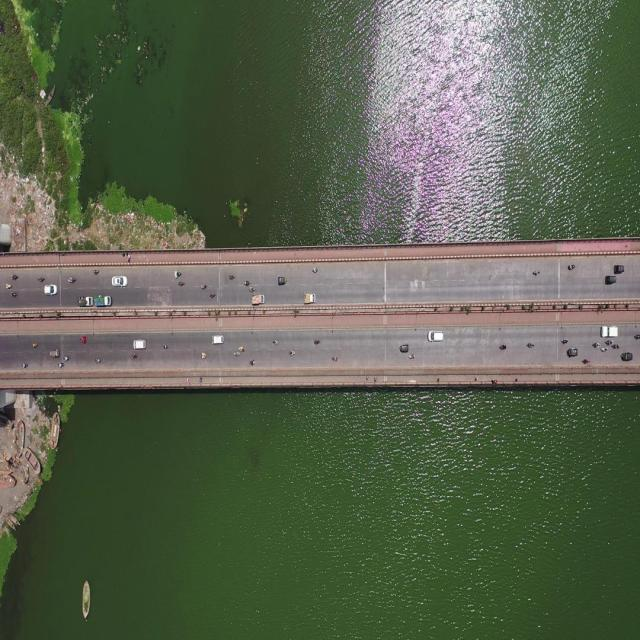3W: (613, 264, 627, 276), (622, 351, 634, 364), (604, 274, 616, 286), (398, 343, 410, 354), (567, 346, 578, 357), (278, 274, 288, 286)
Cars: (598, 320, 618, 338), (78, 294, 96, 312), (43, 280, 60, 296), (428, 328, 445, 342), (110, 276, 128, 288), (47, 343, 60, 359), (212, 331, 225, 346), (132, 340, 148, 350)
M2W: (580, 355, 594, 367), (566, 262, 577, 274), (527, 338, 536, 351), (288, 347, 296, 359), (601, 342, 608, 355), (78, 334, 87, 344), (94, 356, 103, 366), (162, 343, 172, 352), (497, 342, 507, 351), (177, 279, 186, 288), (531, 268, 540, 277), (310, 266, 320, 274), (408, 350, 416, 360), (11, 272, 20, 280), (131, 352, 139, 361), (234, 350, 242, 359), (248, 359, 257, 367), (199, 350, 208, 358), (271, 338, 280, 346), (612, 342, 621, 350), (238, 346, 248, 353), (36, 276, 47, 282), (67, 276, 78, 282), (6, 282, 14, 290), (10, 290, 18, 298), (174, 270, 182, 278), (200, 282, 208, 290), (229, 273, 237, 281), (248, 286, 256, 294), (63, 355, 70, 364), (313, 336, 320, 345), (32, 338, 38, 348), (560, 339, 570, 345), (332, 352, 338, 361), (57, 361, 64, 368), (92, 268, 99, 275), (244, 280, 251, 287), (22, 361, 28, 369), (606, 339, 614, 345), (209, 292, 216, 298), (593, 343, 600, 349), (633, 331, 640, 337)
Truck: (94, 294, 113, 308), (304, 292, 316, 305), (250, 294, 265, 304)
